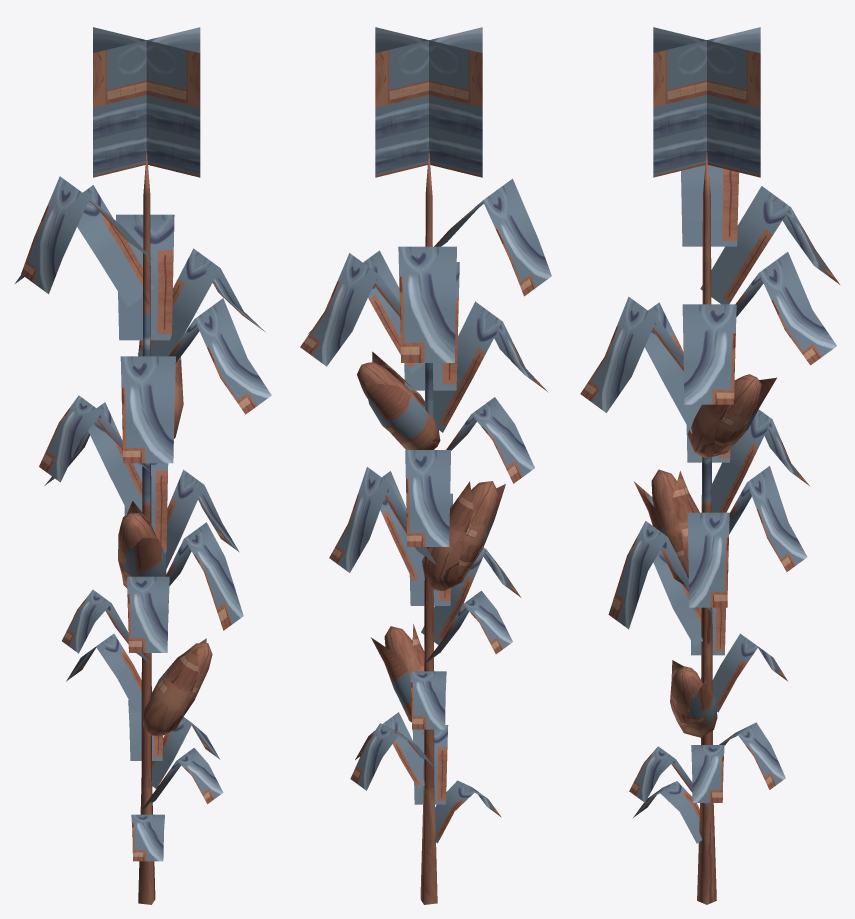
Rendered from cornstalk.FBX.
The picture shows the model from 3 angles, left to right: view 1: azimuth 30°, elevation 25°; view 2: azimuth 150°, elevation 25°; view 3: azimuth 270°, elevation 25°; orthographic projection.
Visible parts, largest first — view 1: stalk001; view 2: stalk001; view 3: stalk001.
Part boxes in pixels (bbox=[...]): stalk001: bbox=[15, 27, 271, 904]; stalk001: bbox=[300, 27, 551, 904]; stalk001: bbox=[580, 27, 839, 904].
Bounding box in the file's own units: 32.81 × 123 × 33.78.
Materials: 1 (1 with a texture image).
